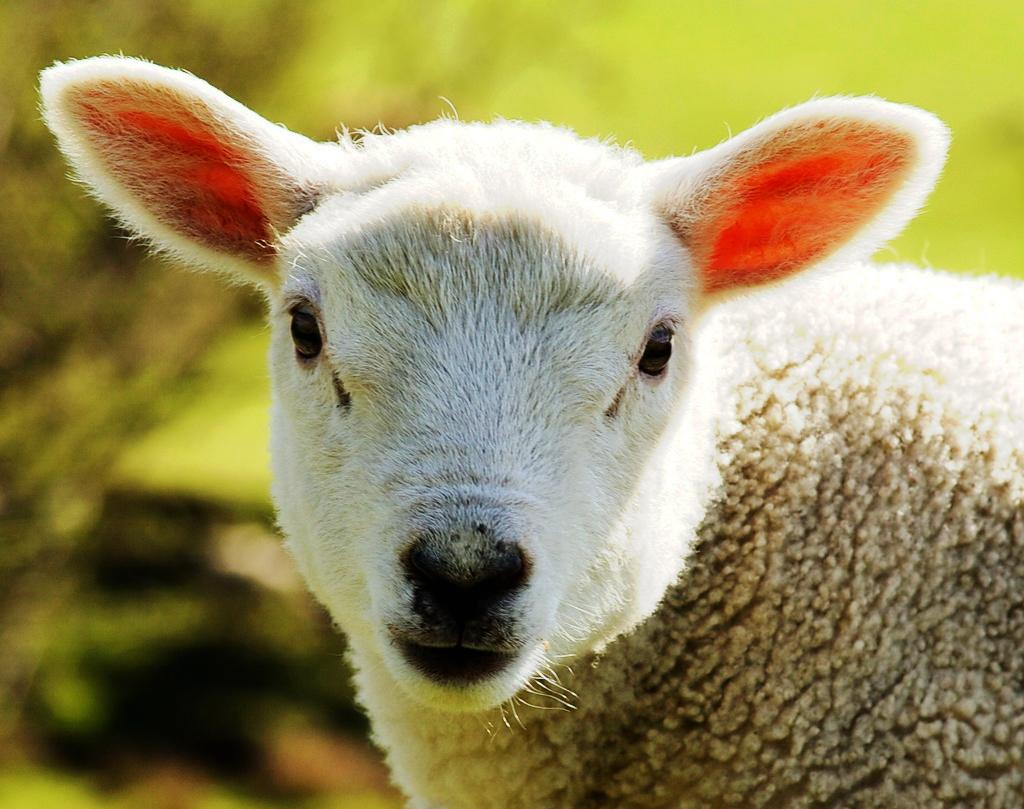Sheep: (32, 52, 1024, 808)
